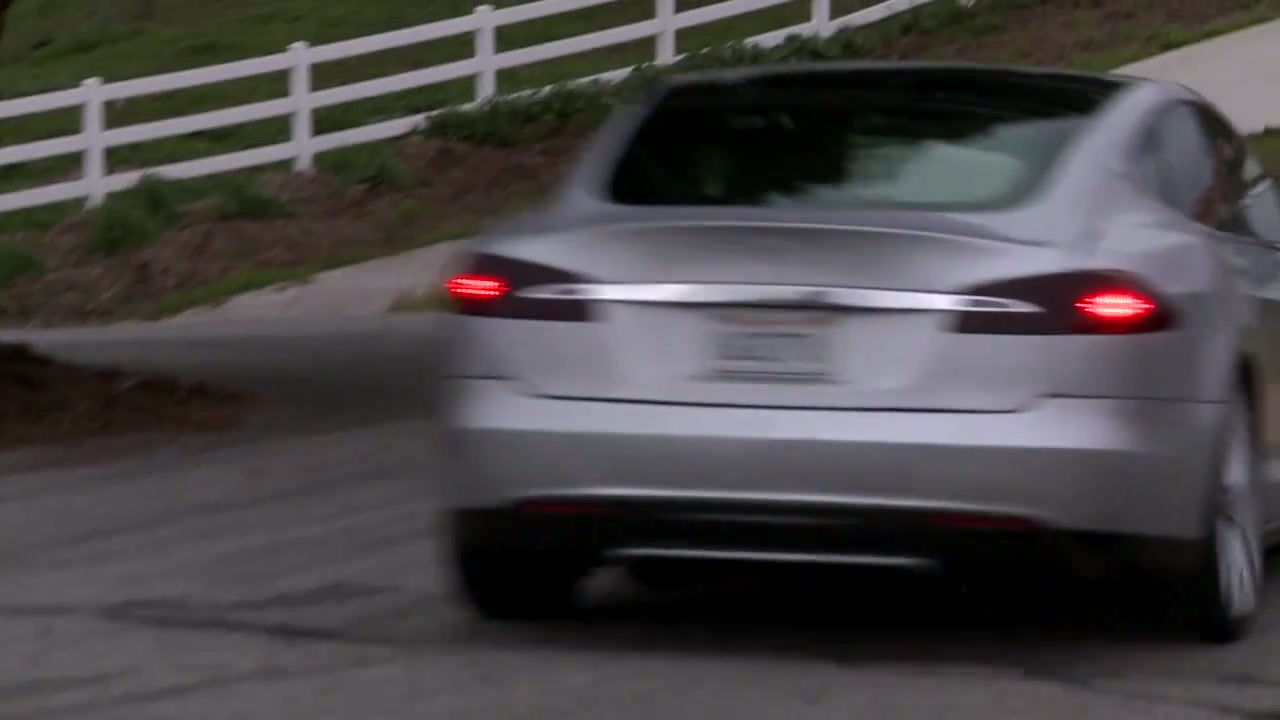car: (436, 53, 1280, 658)
